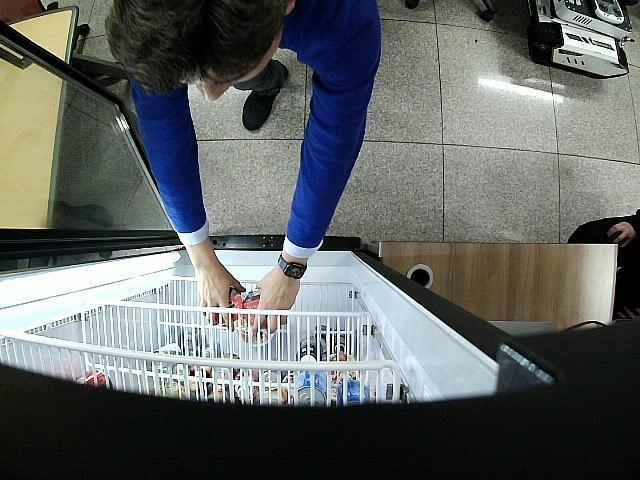02_shinRamen_S: (206, 285, 244, 325), (241, 290, 268, 332)
